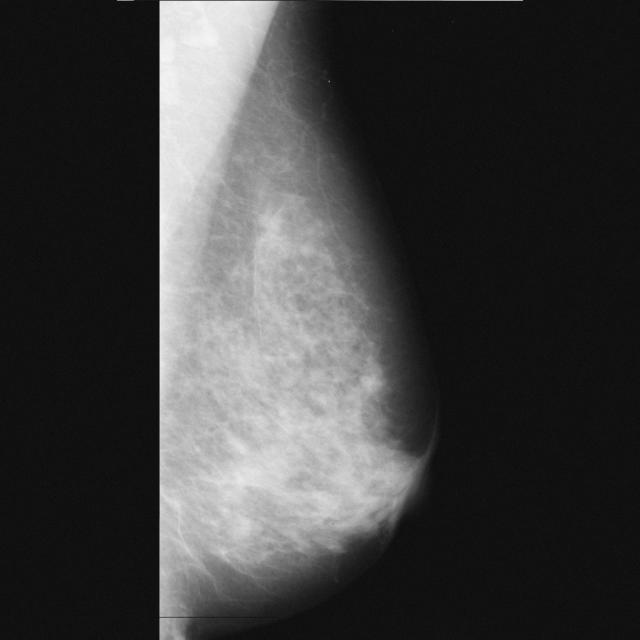SPIC: (249, 201, 291, 242)
